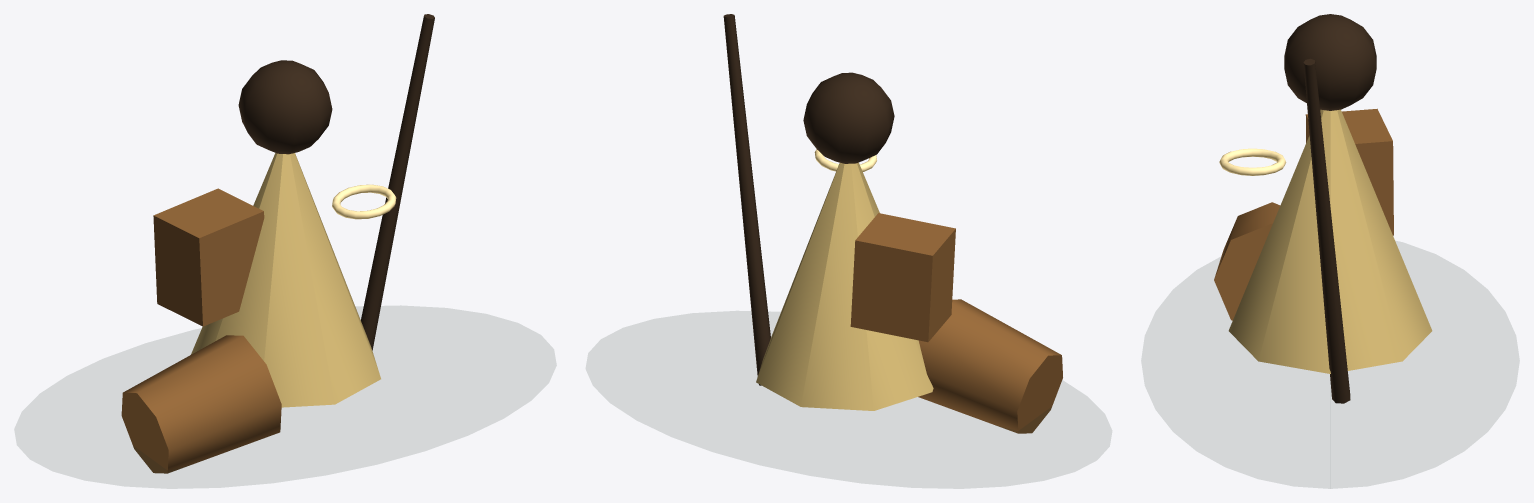
File: nomad_visitor.glb
3 views of the same model, side by side, from view 1: azimuth 30°, elevation 25°; view 2: azimuth 150°, elevation 25°; view 3: azimuth 270°, elevation 25° (orthographic). The views are drawn at different scales.
Visible parts, largest first — view 1: soft_ground_shadow, visitor_cloak_body, visitor_ground_bundle, visitor_pack, visitor_head, visitor_staff, visitor_shell_charm; view 2: soft_ground_shadow, visitor_cloak_body, visitor_ground_bundle, visitor_pack, visitor_head, visitor_staff; view 3: soft_ground_shadow, visitor_cloak_body, visitor_head, visitor_staff, visitor_ground_bundle, visitor_pack, visitor_shell_charm.
Boxes of the visible parts, x1,y1,x2,y2 form: soft_ground_shadow: (15, 306, 555, 488); visitor_cloak_body: (191, 153, 380, 407); visitor_ground_bundle: (121, 335, 281, 473); visitor_pack: (153, 188, 264, 326); visitor_head: (238, 60, 332, 154); visitor_staff: (361, 14, 434, 350); visitor_shell_charm: (332, 184, 396, 219); soft_ground_shadow: (586, 311, 1111, 488); visitor_cloak_body: (756, 162, 933, 410); visitor_ground_bundle: (918, 299, 1062, 433); visitor_pack: (850, 213, 955, 342); visitor_head: (803, 72, 894, 163); visitor_staff: (723, 14, 770, 385); soft_ground_shadow: (1142, 242, 1518, 488); visitor_cloak_body: (1228, 109, 1432, 373); visitor_head: (1284, 14, 1376, 110); visitor_staff: (1303, 58, 1350, 403); visitor_ground_bundle: (1214, 202, 1280, 320); visitor_pack: (1305, 108, 1393, 235); visitor_shell_charm: (1219, 148, 1286, 175).
Size of the model in its own units: 2.5 by 1.74 by 1.56.
